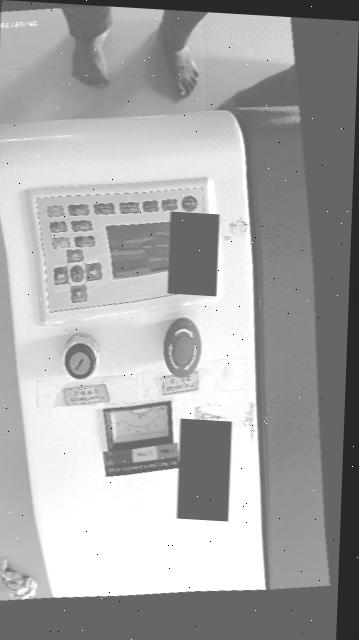Amp_Meter: (103, 402, 172, 451)
Display: (105, 221, 169, 279)
Down_button: (66, 249, 83, 263)
Emergency_Stop: (163, 318, 201, 378)
Enter_button: (51, 237, 69, 248)
Esc_button: (73, 236, 94, 247)
File_button: (67, 204, 88, 216)
Frame_button: (49, 221, 66, 233)
Left_button: (85, 263, 101, 281)
Max-Power_button: (93, 203, 114, 215)
Min-Power_button: (119, 202, 138, 213)
Origin_button: (70, 220, 91, 232)
Power_switch: (63, 334, 98, 379)
Pulse_button: (161, 199, 177, 211)
Reset_button: (181, 196, 197, 211)
Right_button: (53, 267, 68, 285)
Speed_button: (142, 201, 157, 212)
Start-Pause_button: (46, 205, 63, 217)
Up_button: (70, 285, 86, 303)
Z_U_button: (69, 265, 83, 282)
